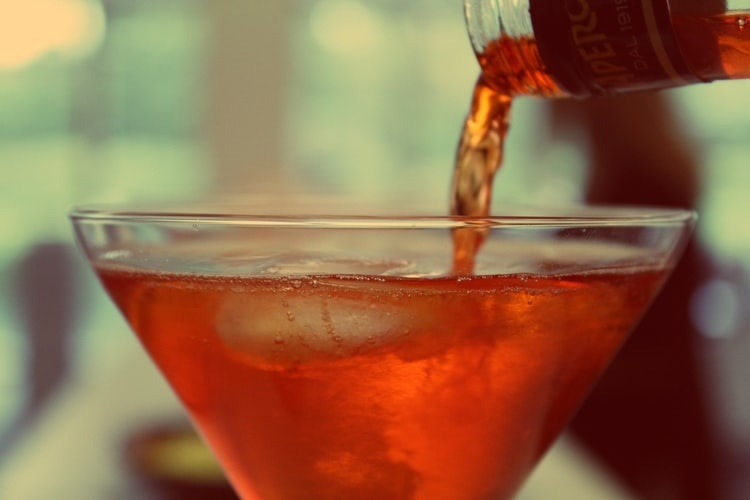whiskey: (66, 186, 707, 500)
